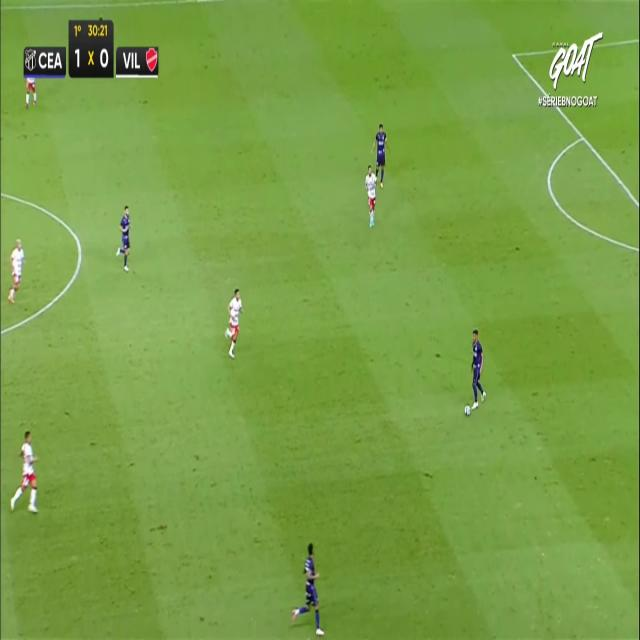ball: (463, 402, 472, 418)
player: (291, 542, 325, 636), (10, 429, 38, 513), (370, 122, 390, 188), (470, 328, 486, 410), (225, 288, 242, 358), (7, 237, 25, 303), (115, 205, 132, 271), (364, 165, 378, 228), (25, 76, 37, 108)
